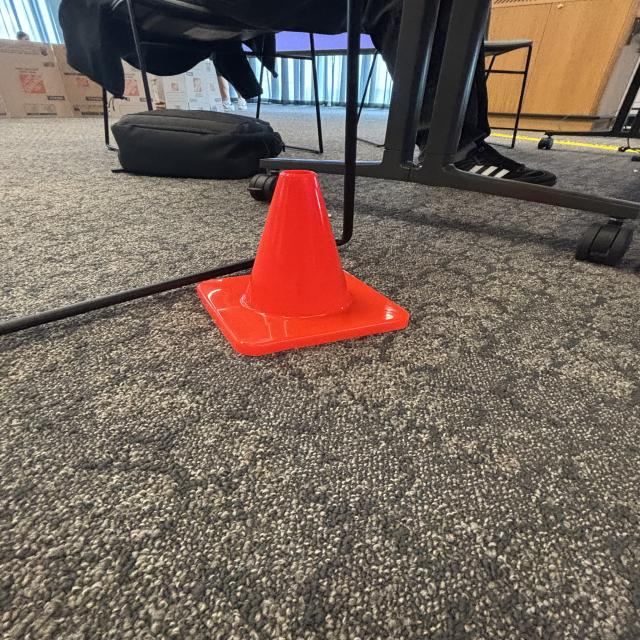Traffic Cone: (190, 166, 418, 361)
